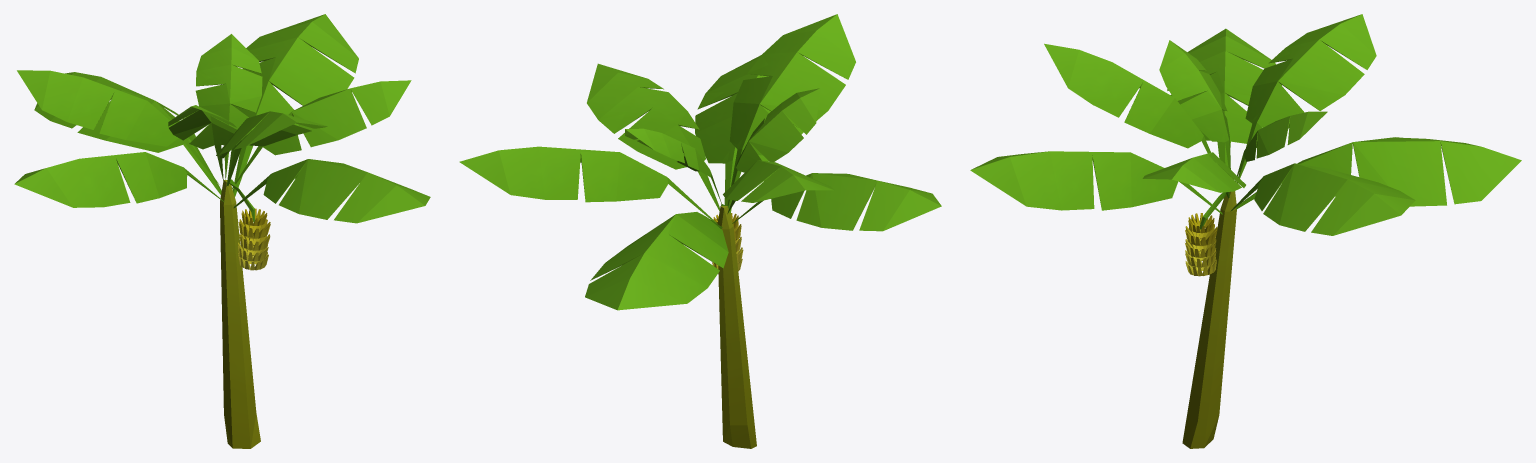
The model's file is SM_BananaTree&Bananas.fbx.
3 renders of one model, left to right at view 1: azimuth 30°, elevation 25°; view 2: azimuth 150°, elevation 25°; view 3: azimuth 270°, elevation 25°, orthographic. The views are drawn at different scales.
Visible parts, largest first — view 1: Cube.077; view 2: Cube.077; view 3: Cube.077.
Boxes of the visible parts, x1,y1,x2,y2 form: Cube.077: (14, 14, 430, 448); Cube.077: (459, 14, 941, 448); Cube.077: (970, 14, 1521, 448).
Bounding box in the file's own units: 396 × 363 × 467.
